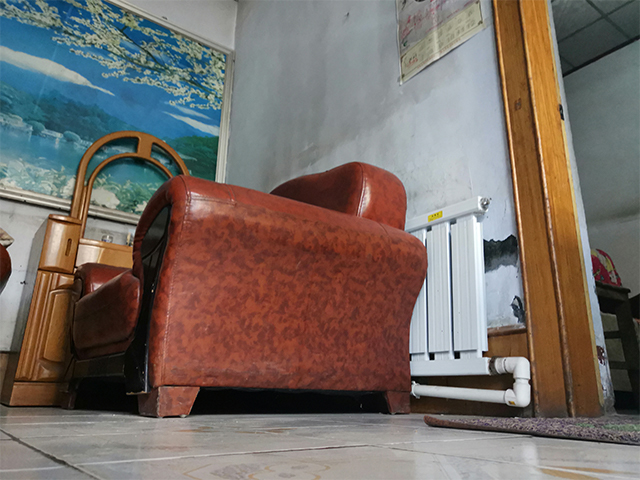carpet: (422, 409, 640, 448)
sofa: (58, 159, 430, 420)
